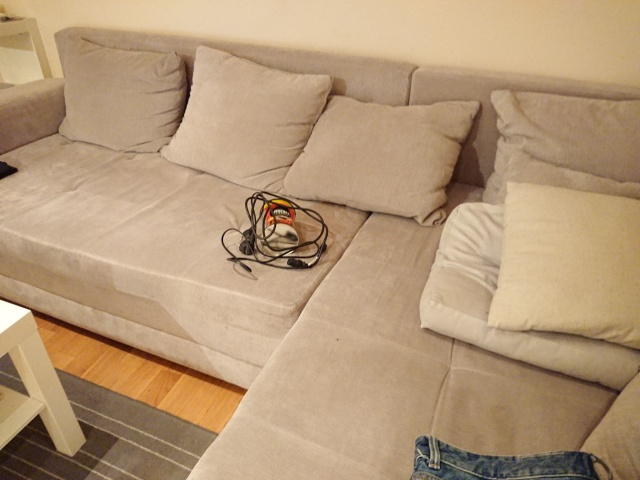Nescafe Classic 225g: (259, 197, 302, 258)
